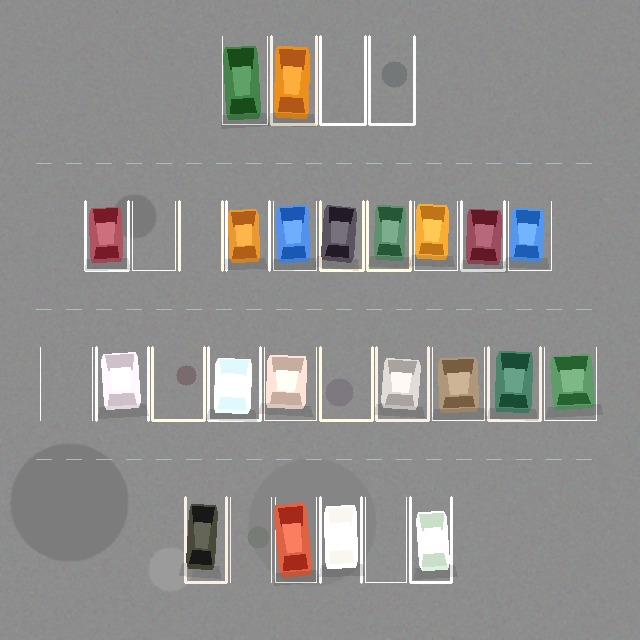space-empty: (320, 36, 365, 124), (369, 36, 414, 124), (40, 347, 92, 420), (152, 347, 204, 420), (320, 347, 372, 420), (230, 497, 271, 582), (365, 497, 406, 582), (132, 201, 175, 270), (179, 201, 222, 270)
space-occupied: (222, 36, 267, 124), (271, 36, 316, 124), (96, 347, 148, 420), (208, 347, 260, 420), (264, 347, 316, 420), (376, 347, 428, 420), (432, 347, 484, 420), (488, 347, 540, 420), (544, 347, 596, 420), (185, 497, 226, 582), (275, 497, 316, 582), (320, 497, 361, 582), (410, 497, 451, 582), (85, 201, 128, 270), (226, 201, 269, 270), (273, 201, 316, 270), (320, 201, 363, 270), (367, 201, 410, 270), (414, 201, 457, 270), (461, 201, 504, 270), (508, 201, 551, 270)
